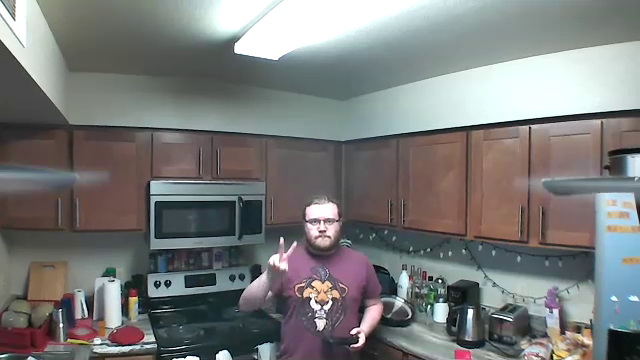peace: (267, 232, 298, 281)
